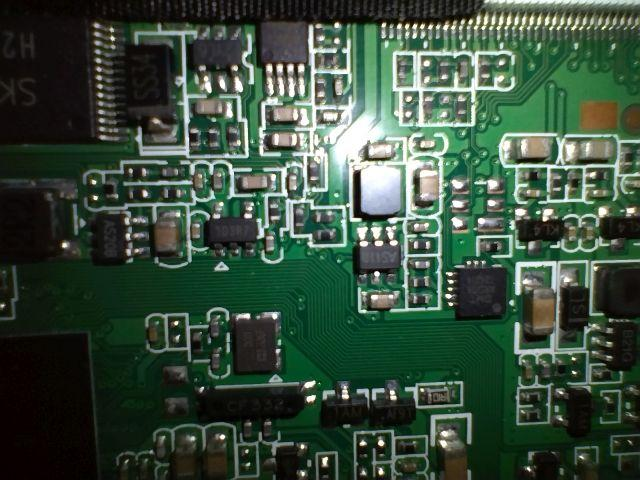capacitor: (147, 199, 197, 267), (498, 126, 569, 173), (564, 127, 628, 172), (406, 154, 448, 216)
resistor: (389, 39, 421, 89), (97, 168, 130, 212), (197, 122, 235, 160), (305, 72, 338, 113), (222, 119, 255, 160), (474, 231, 518, 260), (402, 287, 443, 318), (404, 236, 448, 260), (402, 270, 442, 295), (188, 324, 211, 364), (182, 124, 205, 156)
